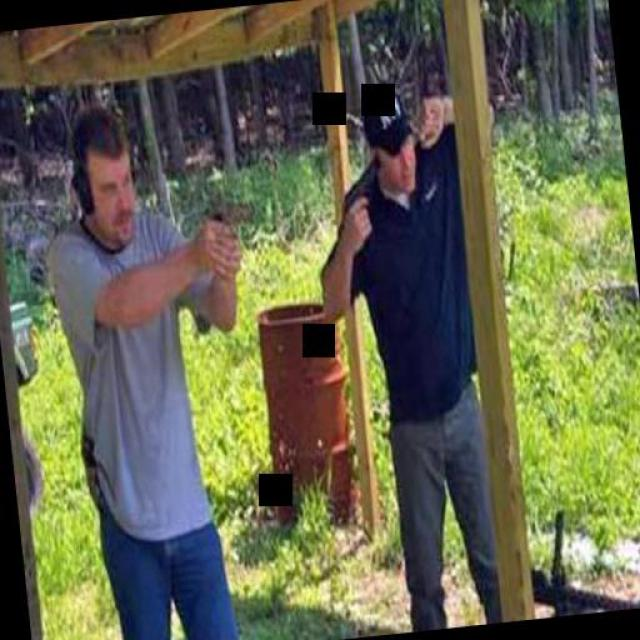gun: (194, 170, 270, 276), (332, 148, 386, 236)
